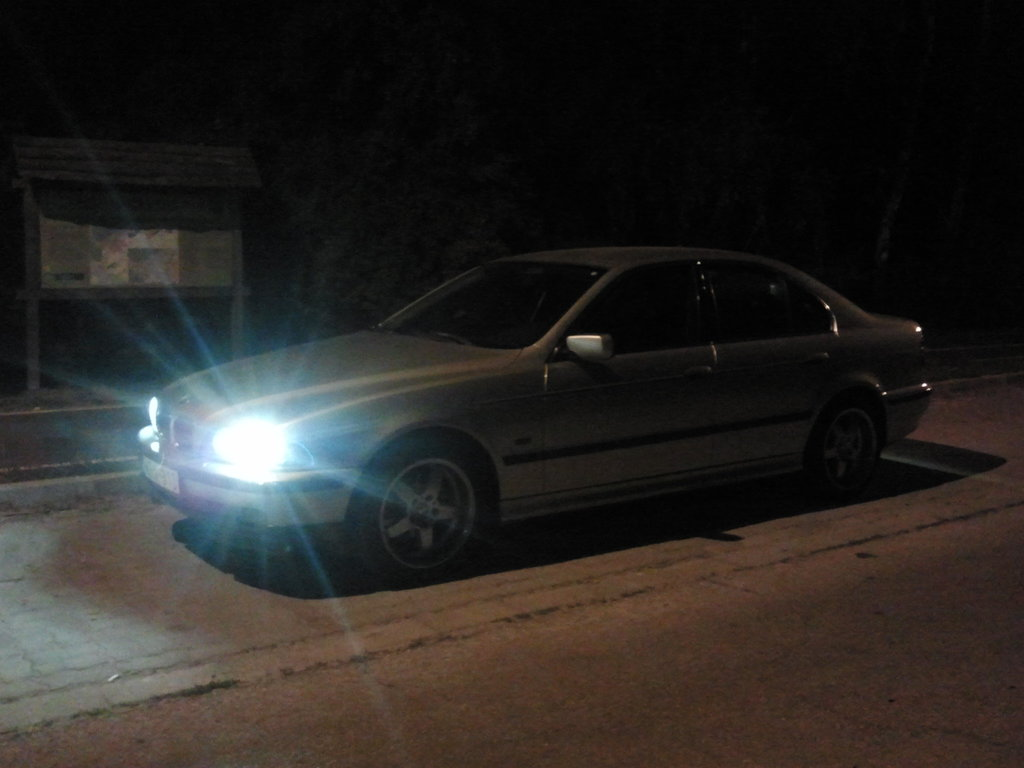car: (121, 232, 939, 601)
